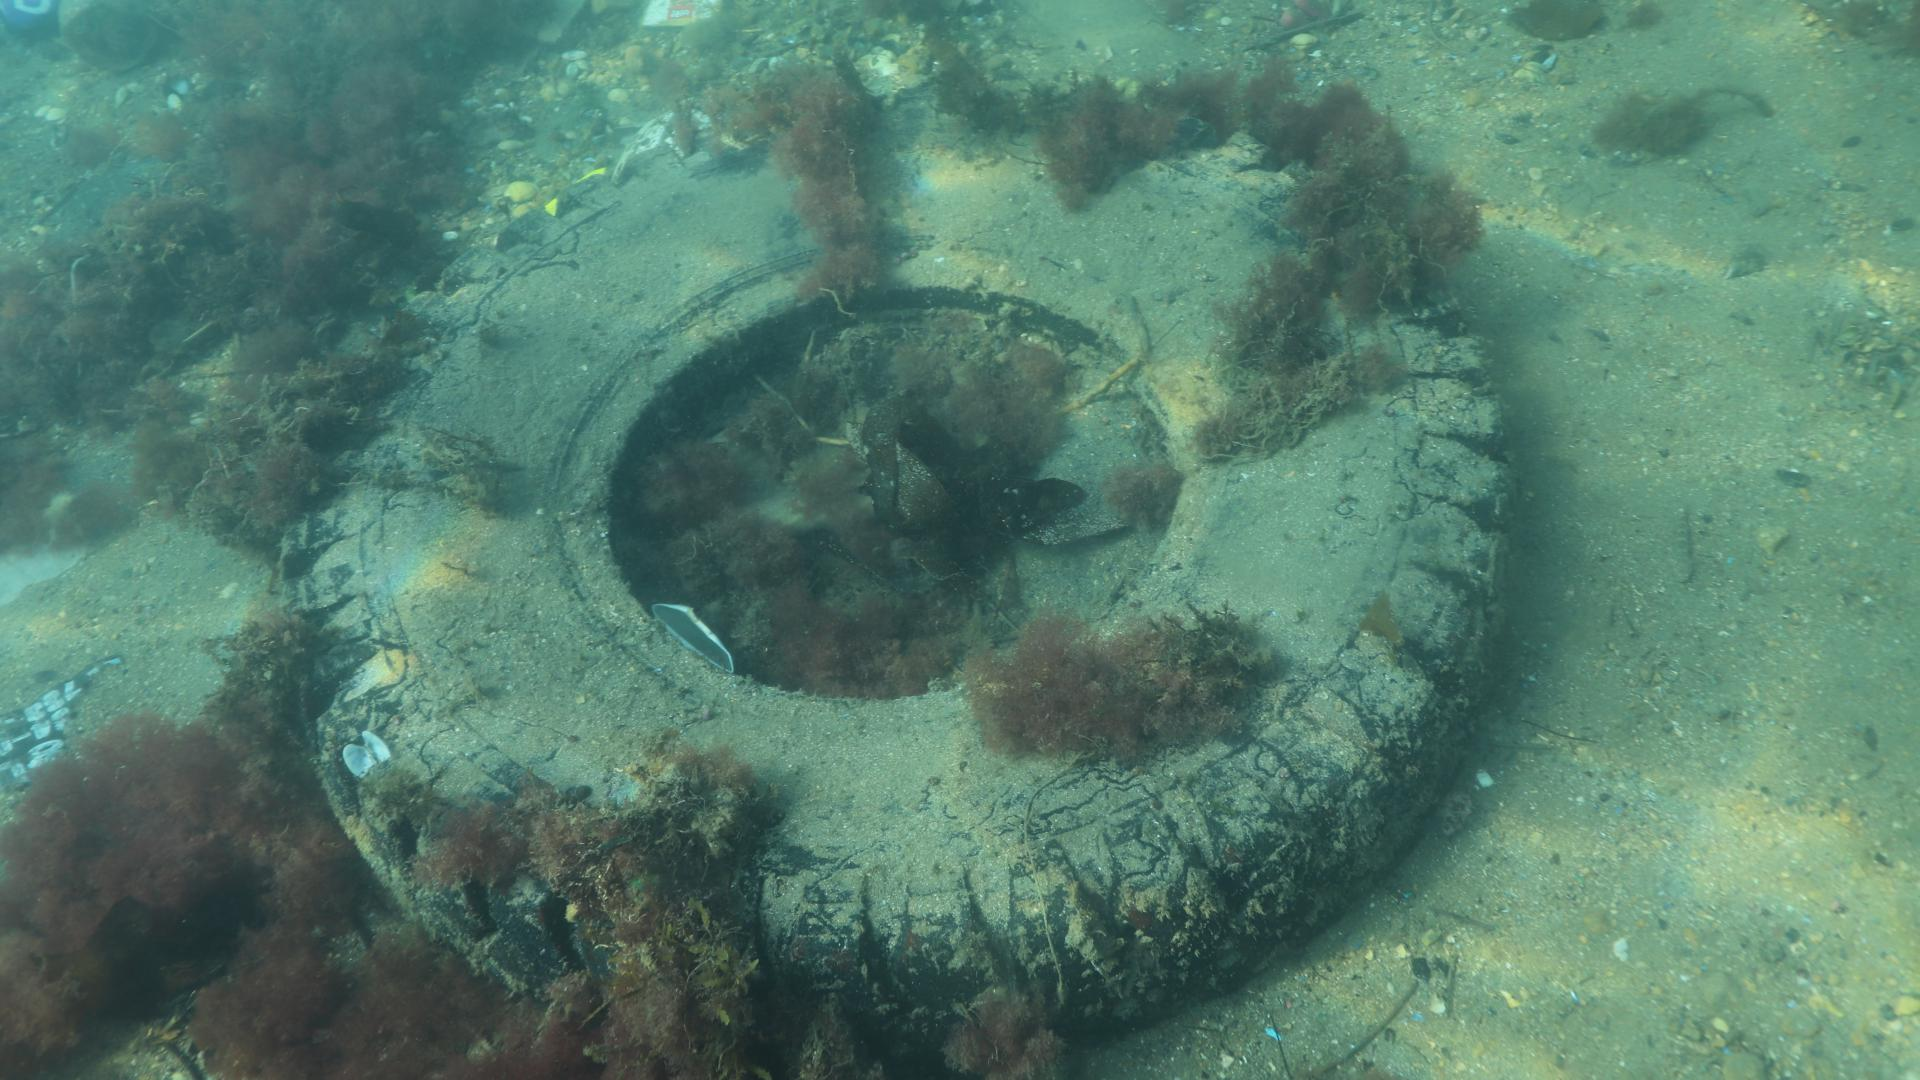tire: (276, 83, 1513, 1054)
